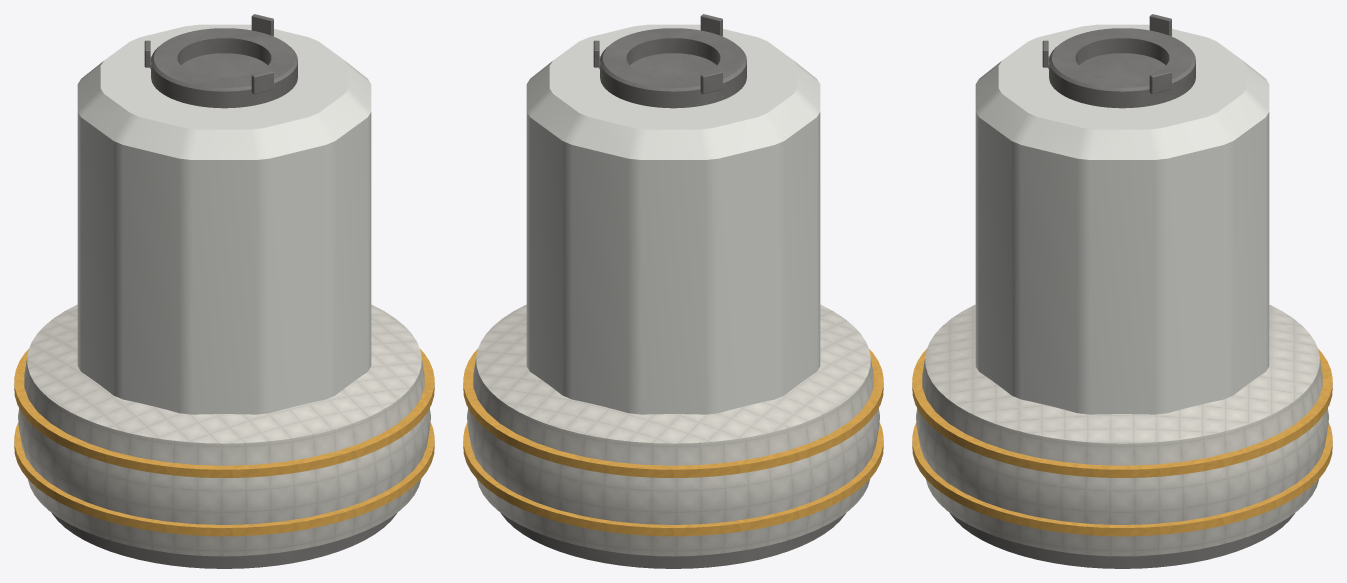
File: ax_station_16_dome.glb
3 renders of one model, left to right at view 1: azimuth 30°, elevation 25°; view 2: azimuth 150°, elevation 25°; view 3: azimuth 270°, elevation 25°, orthographic.
Parts seen in each view (by area): view 1: rigid_core, membrane_stowed, restraint_bands, port_top, core_footing, hatch_door_1, port_top_petals; view 2: rigid_core, membrane_stowed, restraint_bands, port_top, core_footing, hatch_door_1, port_top_petals; view 3: rigid_core, membrane_stowed, restraint_bands, port_top, core_footing, hatch_door_1, port_top_petals.
Boxes of the visible parts, <box> form: rigid_core: <box>77,24,371,414</box>; membrane_stowed: <box>18,304,430,555</box>; restraint_bands: <box>14,349,434,536</box>; port_top: <box>151,28,297,108</box>; core_footing: <box>52,513,396,568</box>; hatch_door_1: <box>181,53,267,77</box>; port_top_petals: <box>144,14,273,94</box>; rigid_core: <box>526,24,820,414</box>; membrane_stowed: <box>467,304,879,555</box>; restraint_bands: <box>463,349,883,536</box>; port_top: <box>600,28,746,108</box>; core_footing: <box>501,513,845,568</box>; hatch_door_1: <box>630,53,716,77</box>; port_top_petals: <box>593,14,722,94</box>; rigid_core: <box>975,24,1269,414</box>; membrane_stowed: <box>916,304,1328,555</box>; restraint_bands: <box>912,349,1332,536</box>; port_top: <box>1049,28,1195,108</box>; core_footing: <box>950,513,1294,568</box>; hatch_door_1: <box>1079,53,1165,77</box>; port_top_petals: <box>1042,14,1171,94</box>.
Size of the model in its own units: 4.58 by 5.38 by 4.58.
Materials: 4 (3 with a texture image).
